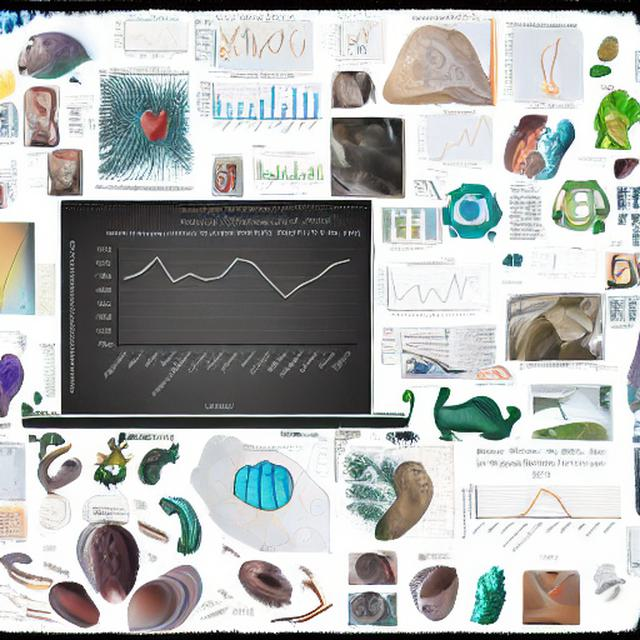Graph: (65, 224, 371, 414), (458, 442, 624, 561), (192, 70, 324, 149), (374, 262, 476, 321), (415, 107, 502, 167), (113, 16, 189, 61), (250, 150, 325, 194), (551, 244, 601, 278)
